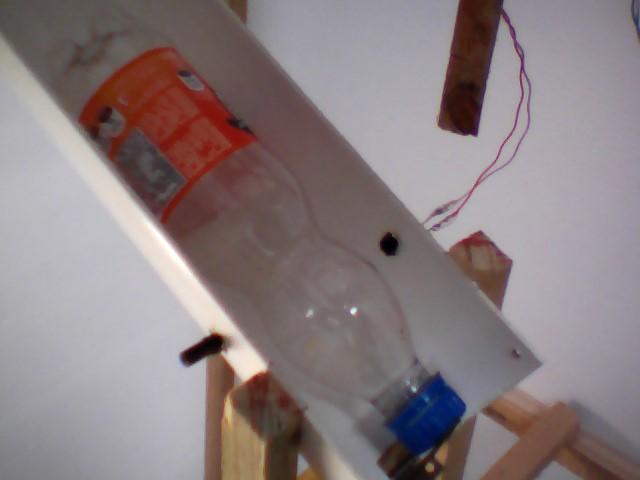plastico: (33, 1, 474, 462)
